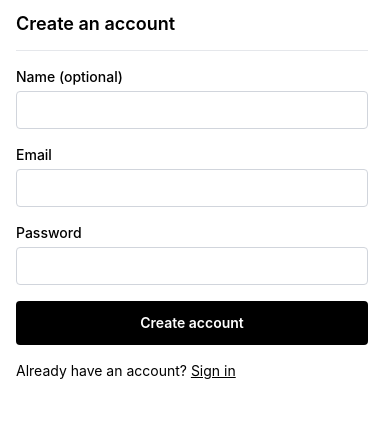
SignUp › rejects a password that is too short
Type "new@example.com" into the field labelled "Email" at (192, 188), box x1=16 y1=169 x2=368 y2=207
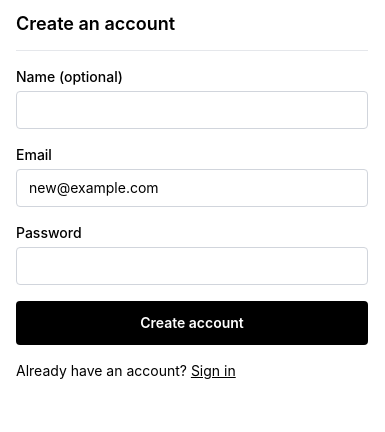
Type "123" into the password field labelled "Password" at (192, 266), box x1=16 y1=247 x2=368 y2=285
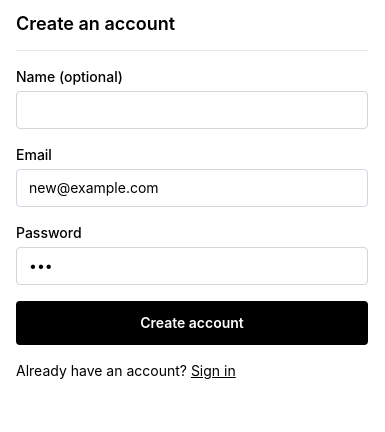
Click the button "Create account" at (192, 323), box x1=16 y1=301 x2=368 y2=345
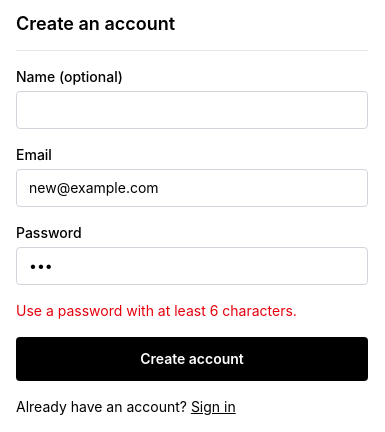
Expected: the message reads "Use a password with at least 6 characters.", x1=16 y1=302 x2=297 y2=319
